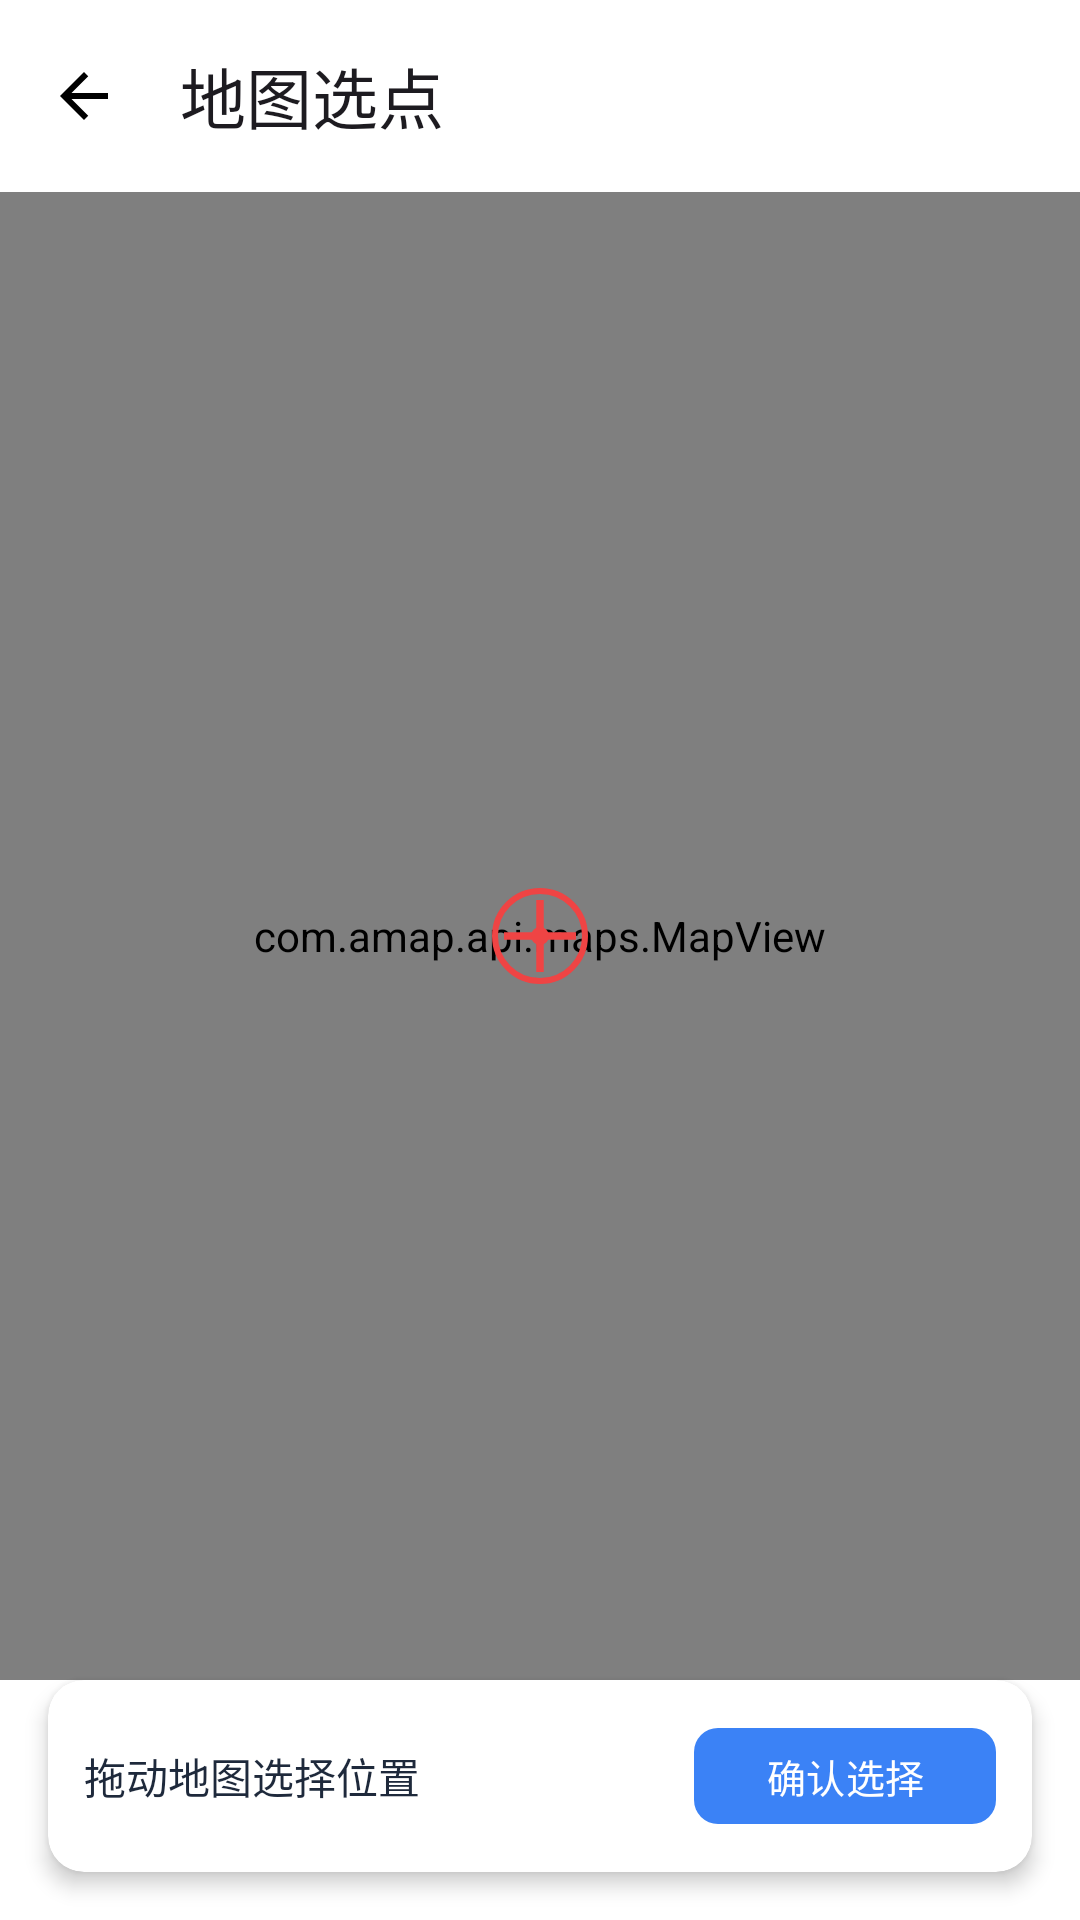

Point at icon controls on the screen. Image size 1080w x 1920h, points as (x=x, y=y).
选中位置: (x=542, y=936)
